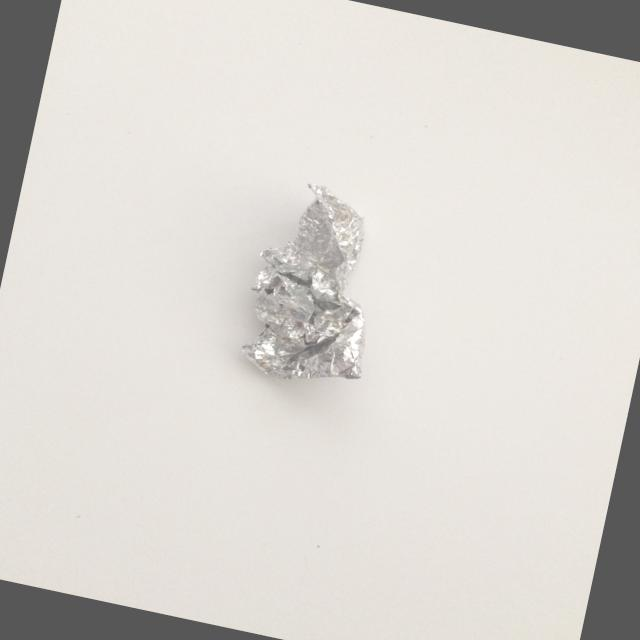Metal: (218, 166, 409, 424)
